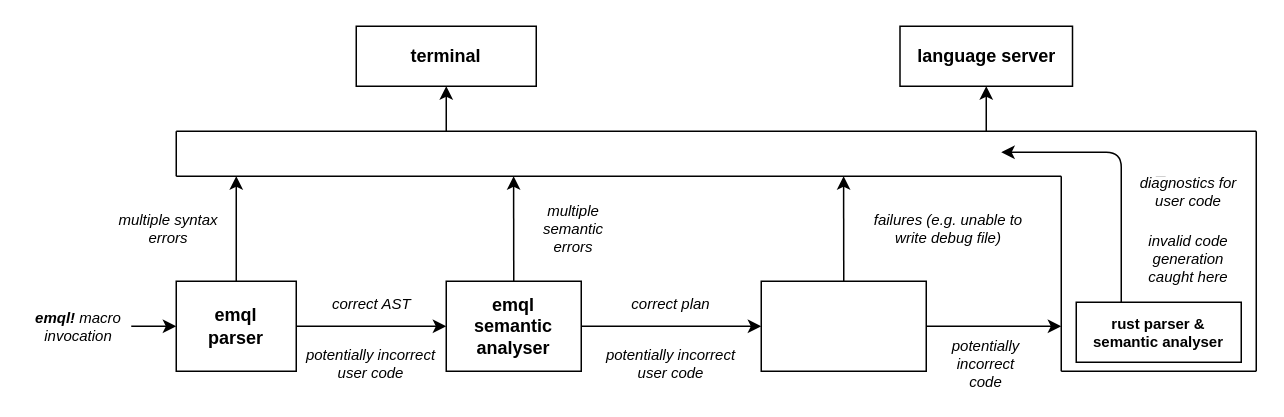
The diagram is 1284 pixels wide and 417 high, and some of its shapes have lost their labels. The centre of each missing label's shape, as x and y in pixels:
"Backend (Serialized, Interface, PlanViz)" goes at pixel 843 325.
"Rust Error Messages" goes at pixel 716 153.
